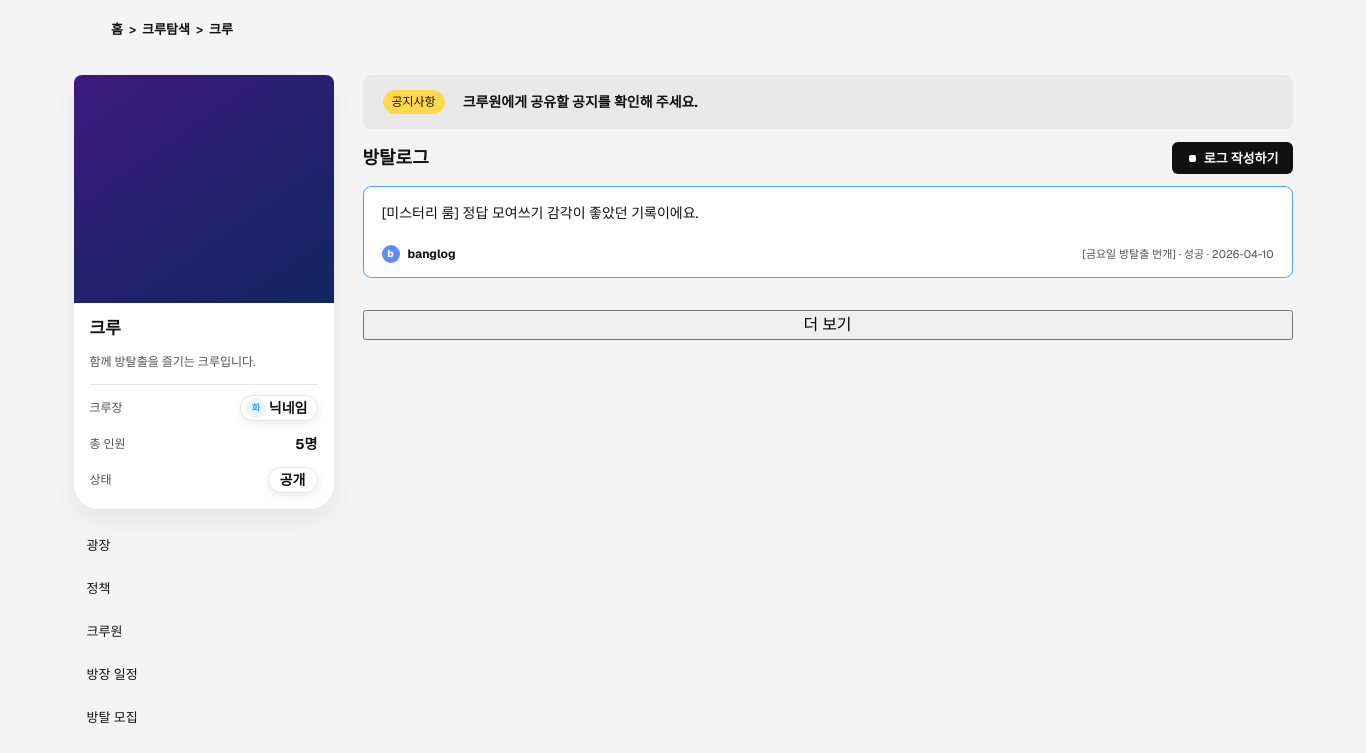
Scenario: CrewLogFeedPage › loads the next page when the user clicks load more
Check: the heading "방탈로그" is shown, box [362,146,429,170]
Step 1. Click the button "더 보기" → (828, 325), box [362,310,1292,340]
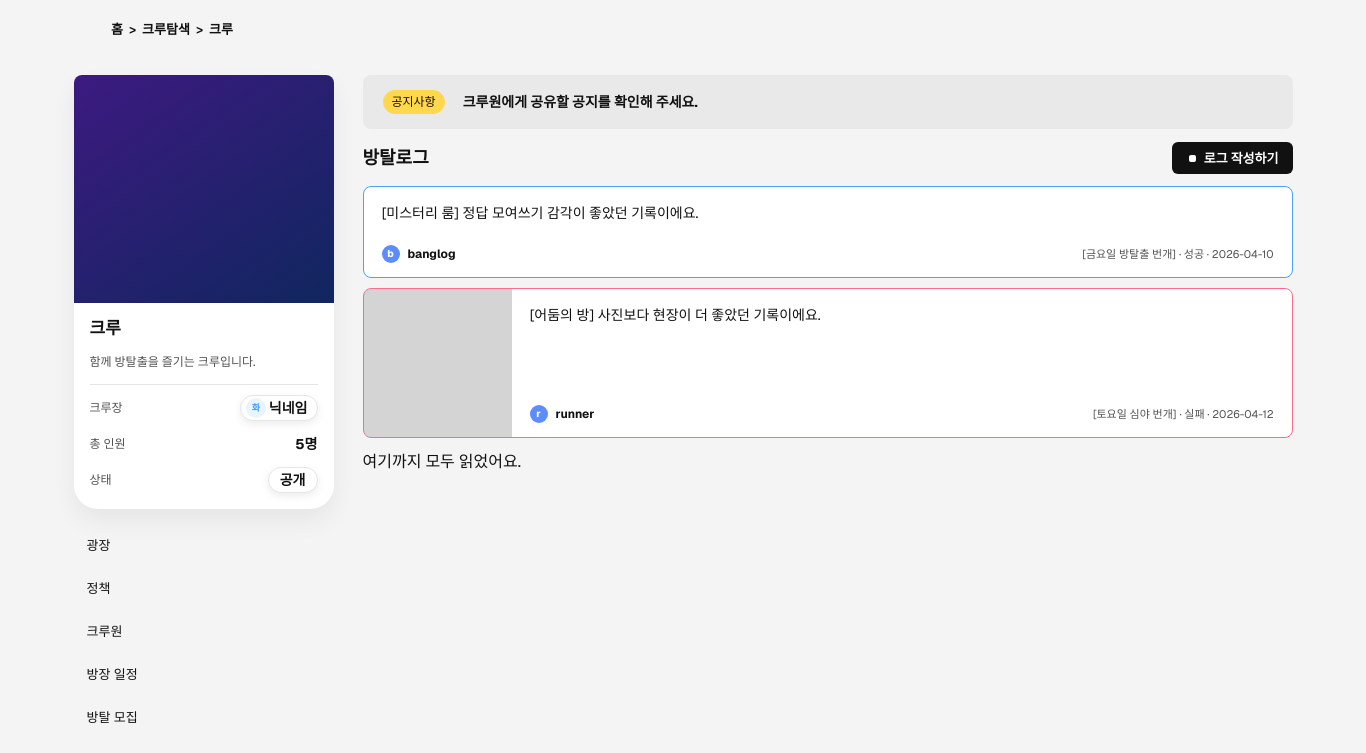
Check: the text "[어둠의 방] 사진보다 현장이 더 좋았던 기록이에요." is shown, box [530,306,821,324]
